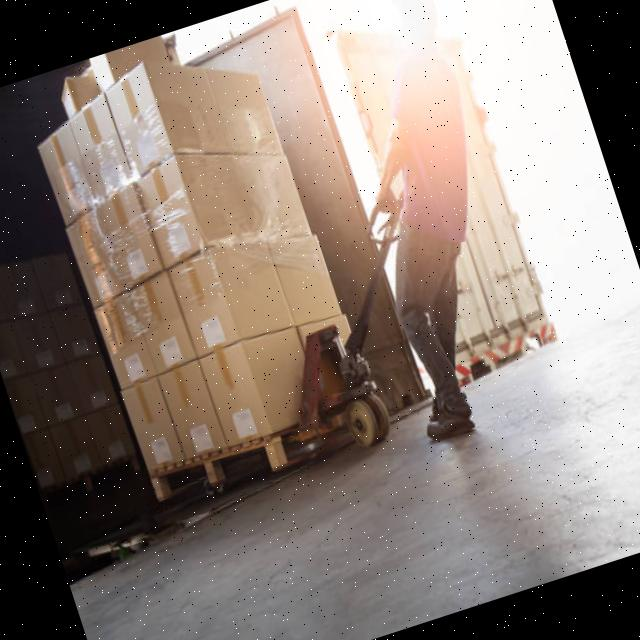Wooden-Pallets: (143, 430, 298, 507)
